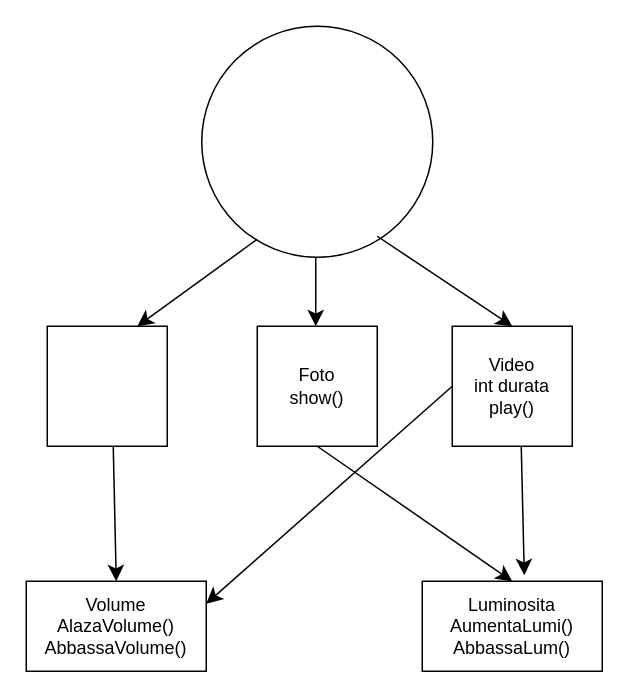
Image size: 629x698. Some labels were removed from this diagram. The centre of each missing label's shape, as x and y in pixels:
"Audio int durata play()" goes at [106,385].
"Player Multimediale" goes at [316,141].
